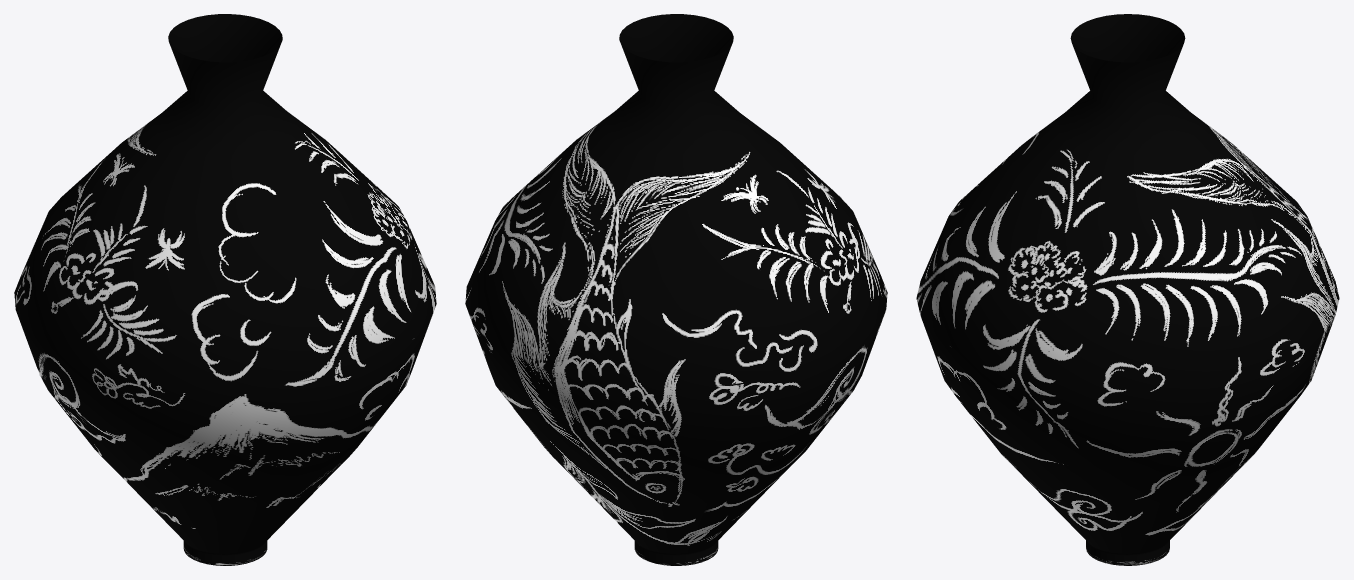
The model's file is ваза для сайта (4).glb.
3 views of the same model, side by side, from view 1: azimuth 30°, elevation 25°; view 2: azimuth 150°, elevation 25°; view 3: azimuth 270°, elevation 25° (orthographic).
Parts seen in each view (by area): view 1: Cylinder; view 2: Cylinder; view 3: Cylinder.
Boxes of the visible parts, box(x1,y1,x2,y2) form: Cylinder: box(14, 14, 436, 565); Cylinder: box(465, 14, 887, 565); Cylinder: box(916, 14, 1339, 565).
Bounding box in the file's own units: 3.12 × 4.15 × 3.12.
Materials: 1 (1 with a texture image).
